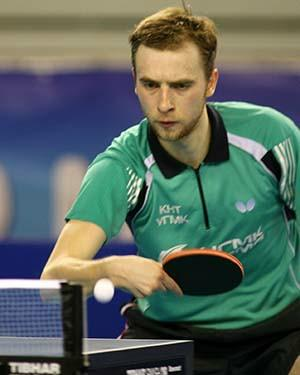ball: (90, 275, 116, 304)
